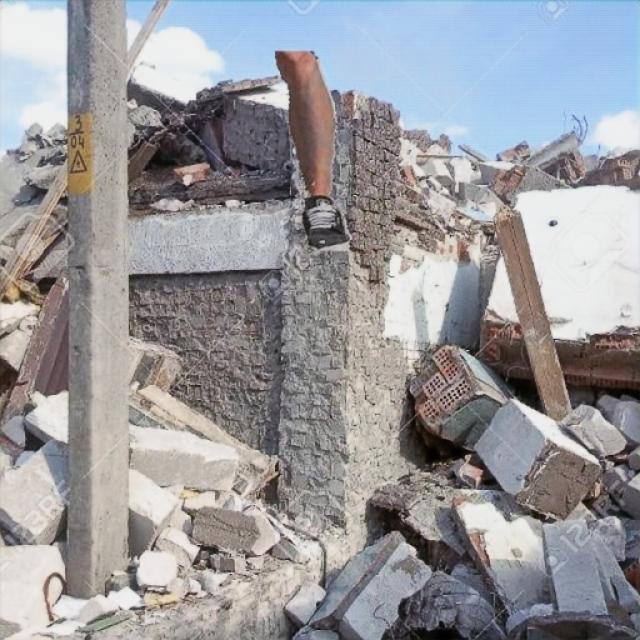Person in Rubble: (275, 51, 351, 250)
